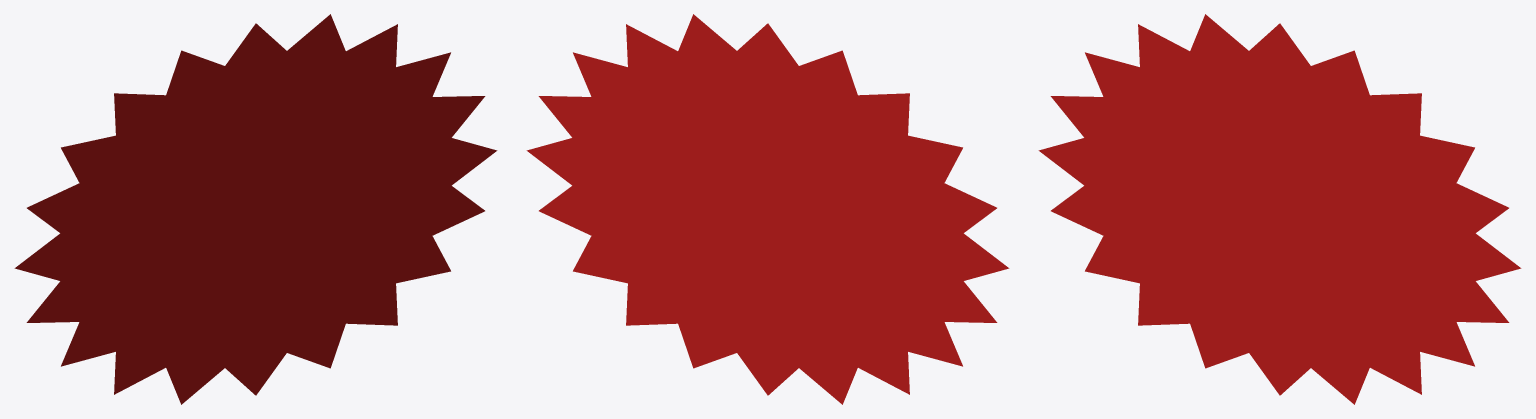
3 renders of one model, left to right at view 1: azimuth 30°, elevation 25°; view 2: azimuth 150°, elevation 25°; view 3: azimuth 330°, elevation 25°, orthographic.
Parts seen in each view (by area): view 1: Joint_0_Object_0; view 2: Joint_0_Object_0; view 3: Joint_0_Object_0.
Boxes of the visible parts, <box> form: Joint_0_Object_0: <box>14,14,497,404</box>; Joint_0_Object_0: <box>526,14,1009,404</box>; Joint_0_Object_0: <box>1038,14,1521,404</box>.
Size of the model in its own units: 96 by 70.8 by 0.
